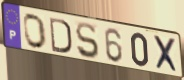0: (130, 32, 150, 69)
6: (103, 27, 124, 65)
D: (48, 16, 73, 56)
O: (22, 13, 48, 51)
S: (75, 22, 101, 61)
X: (152, 34, 181, 76)
